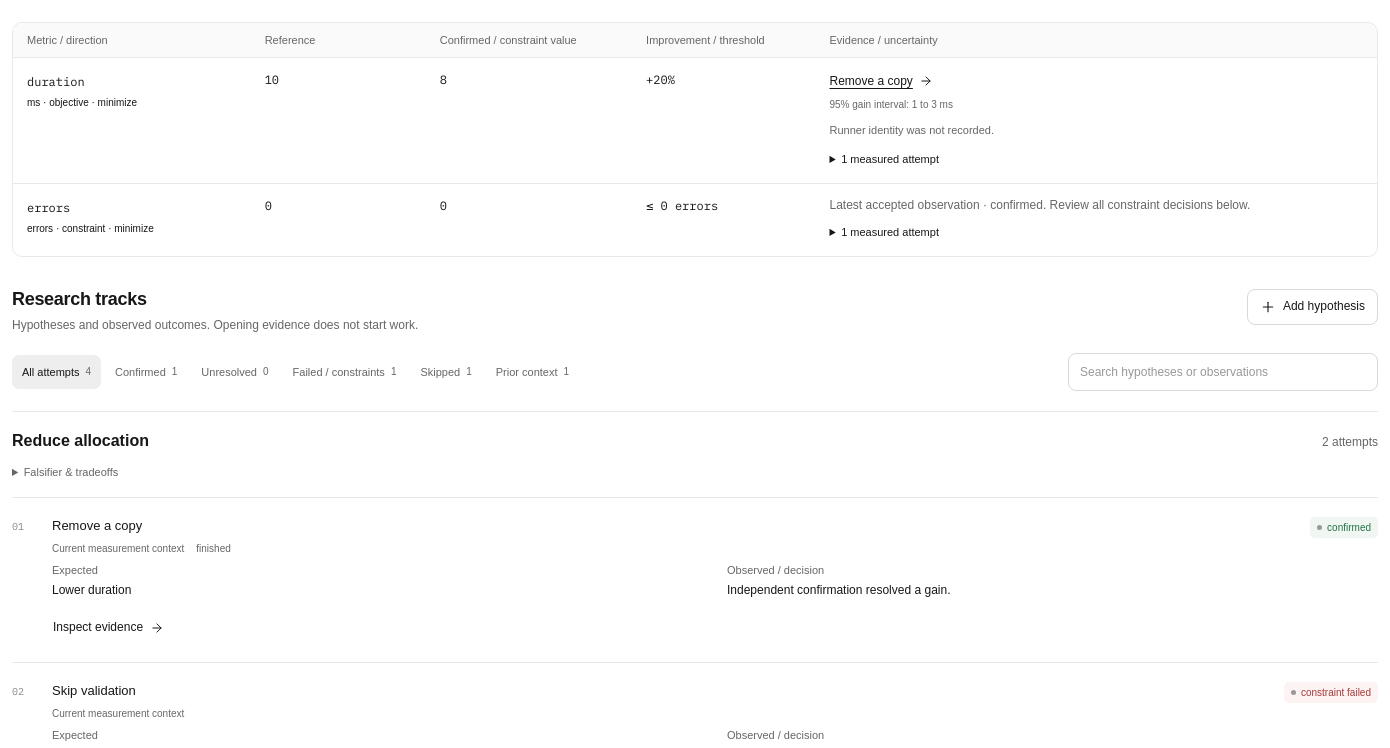
Test: does not plot or promote unmeasured skipped attempts as zero-valued measurements
(page scrolled)
Click the button "Skipped 1". click: (446, 372)
box: [410, 355, 482, 389]
(page scrolled)
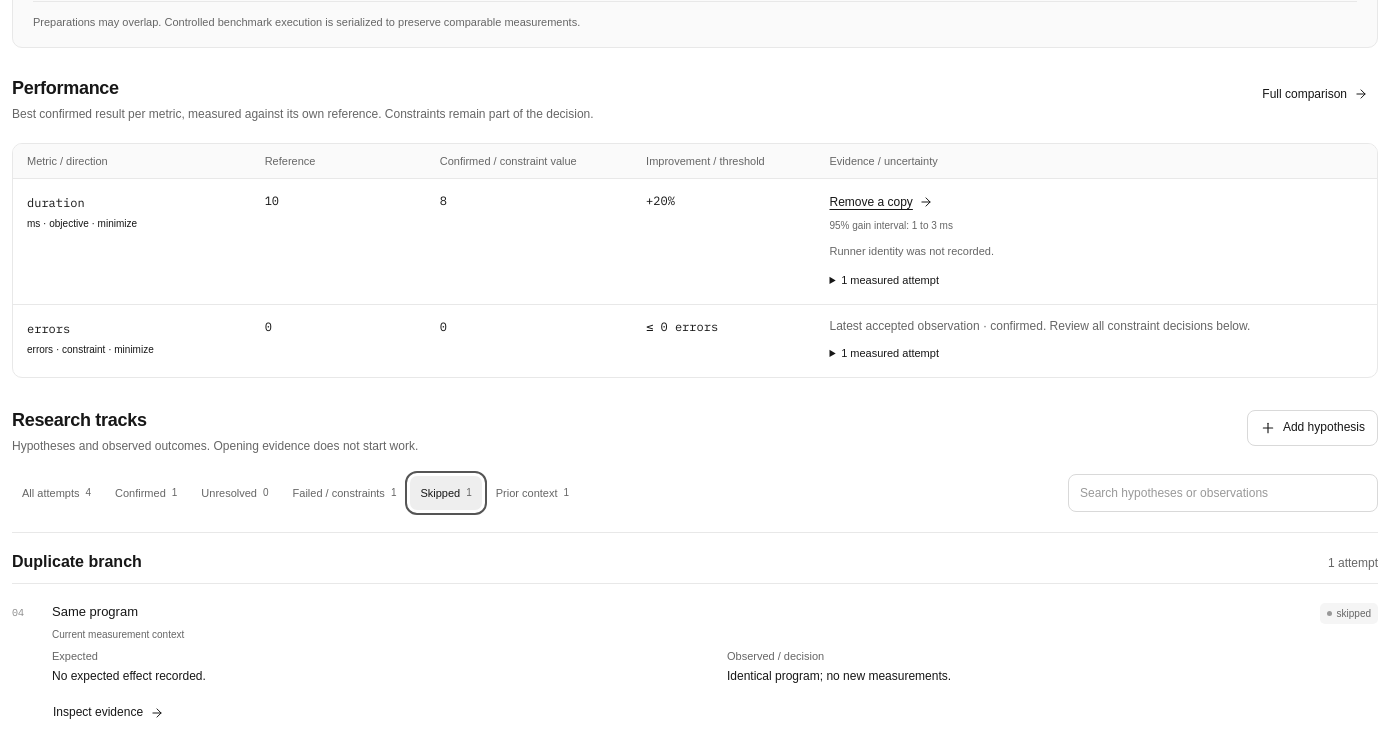
Expected: the button "Same program" is shown, [52, 602, 138, 622]
Now the number of headings "1 measured attempt" is 2
Click the heading "1 measured attempt" below "Runner identity was not recorded.". click: (890, 280)
box: [841, 274, 939, 286]
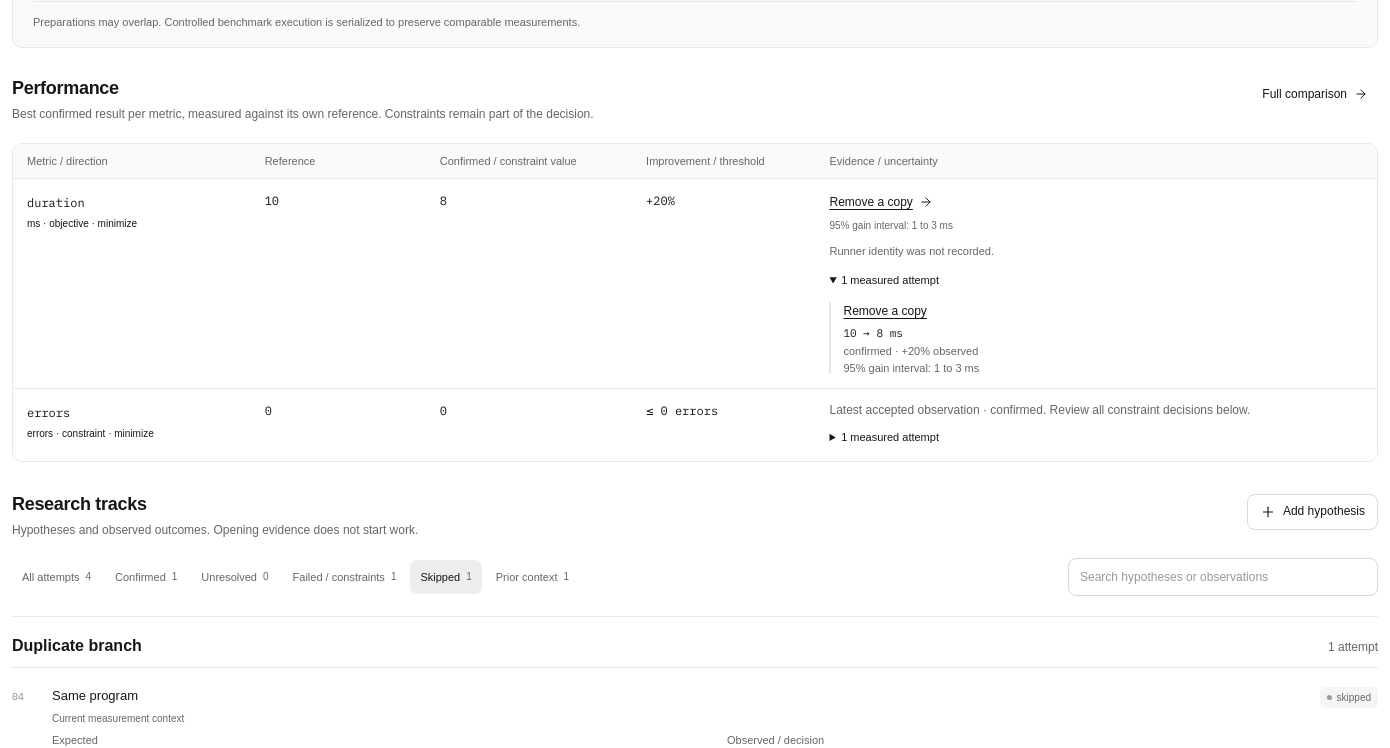
Now the text "10 → 8 ms" is shown, box [844, 326, 903, 340]
